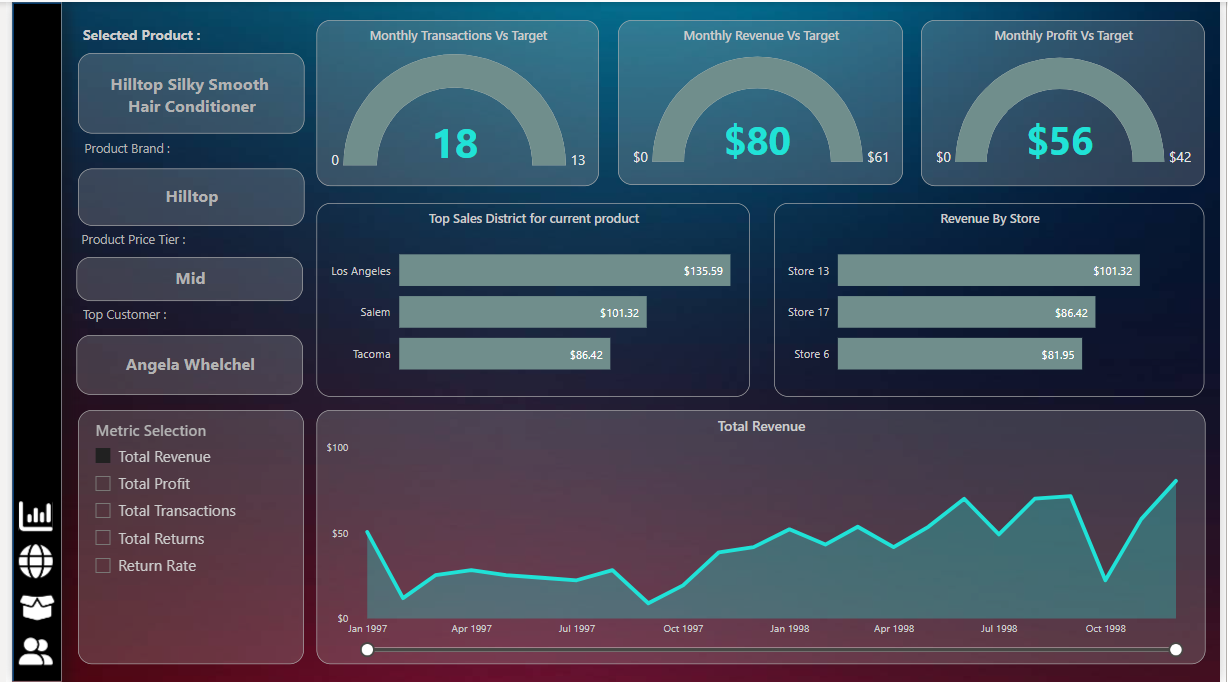

What the dashboard file says about the page in this screenshot:
{"tool":"powerbi","page":{"name":" Product Detail","canvas":[1280,720],"ordinal":2},"visuals":[{"type":"shape","box":[0,0,52.5,720],"z":0},{"type":"actionButton","box":[3.6,523.5,45,43.8],"z":0,"group":"g1"},{"type":"gauge","title":"Monthly Revenue Vs Target","fields":{"Y":["Measures Table.Total Revenue"],"MaxValue":["Measures Table.Revenue Target"]},"box":[642.1,19.1,302,174.8],"z":1000},{"type":"actionButton","box":[3.6,571.2,45,43.8],"z":1000,"group":"g1"},{"type":"gauge","title":"Monthly Profit Vs Target","fields":{"Y":["Measures Table.Total Profit"],"MaxValue":["Measures Table.Profit Target"]},"box":[963.3,18.6,300.6,176.1],"z":2000},{"type":"actionButton","box":[4.8,620.7,45,43.8],"z":2000,"group":"g1"},{"type":"gauge","title":"Monthly Transactions Vs Target","fields":{"Y":["Measures Table.Total Transactions"],"MaxValue":["Measures Table.Transaction Target"]},"box":[322.1,18.6,299.2,176.1],"z":3000},{"type":"actionButton","box":[3.6,666.5,45,43.8],"z":3000,"group":"g1"},{"type":"card","fields":{"Values":["Products.product_name"]},"box":[69.7,54.2,240.2,85.2],"z":4000},{"type":"textbox","box":[69.9,19.1,211.4,35],"z":5000},{"type":"areaChart","fields":{"Y":["Measures Table.Return Rate"],"Category":["Calendar.End of Month.Variation.Date Hierarchy.Year","Calendar.End of Month.Variation.Date Hierarchy.Quarter","Calendar.End of Month.Variation.Date Hierarchy.Month","Calendar.End of Month.Variation.Date Hierarchy.Day"]},"box":[322.1,432.3,941.9,269.1],"z":6000},{"type":"slicer","fields":{"Values":["Metric Selection.Metric Selection"]},"box":[70.1,432.3,239,269.1],"z":7000},{"type":"card","title":"Product Brand","fields":{"Values":["Products.product_brand"]},"box":[69.7,176.7,240.2,60.4],"z":8000},{"type":"textbox","box":[71.3,139.5,212.3,37.2],"z":9000},{"type":"barChart","title":"Top Sales District for current product","fields":{"Category":["Regions.sales_district"],"Y":["Measures Table.Total Revenue"]},"box":[322.6,213,459.3,205],"z":10000},{"type":"barChart","title":"Revenue By Store","fields":{"Y":["Measures Table.Total Revenue"],"Category":["Stores.store_name"]},"box":[807.4,213,456.2,205],"z":11000},{"type":"textbox","box":[68.2,237.1,212.3,32.5],"z":12000},{"type":"card","title":"Product Brand","fields":{"Values":["Products.Price Tier"]},"box":[68.2,269.6,240.2,46.5],"z":13000},{"type":"card","title":"Product Brand","fields":{"Values":["Customers.full_name"]},"box":[68.2,353.3,240.2,63.5],"z":14000},{"type":"textbox","box":[69.7,316.1,212.3,37.2],"z":15000},{"type":"group","id":"g1","title":"Nav Icons","box":[3.6,523.5,46.2,186.8],"z":16000}]}

Visuals, with their boxes in screenshot pixels (x1, y1, x2, y2), scaled from the page's 1280x720 canvas onto the 1228x682 screenshot:
shape: [left=0, top=0, right=50, bottom=681]
actionButton: [left=3, top=496, right=47, bottom=537]
"Monthly Revenue Vs Target" gauge: [left=616, top=18, right=906, bottom=184]
actionButton: [left=3, top=541, right=47, bottom=583]
"Monthly Profit Vs Target" gauge: [left=924, top=18, right=1213, bottom=184]
actionButton: [left=5, top=588, right=48, bottom=629]
"Monthly Transactions Vs Target" gauge: [left=309, top=18, right=596, bottom=184]
actionButton: [left=3, top=631, right=47, bottom=673]
card - Products.product_name: [left=67, top=51, right=297, bottom=132]
textbox: [left=67, top=18, right=270, bottom=51]
areaChart - Measures Table.Return Rate x Calendar.End of Month.Variation.Date Hierarchy.Year: [left=309, top=409, right=1213, bottom=664]
slicer - Metric Selection.Metric Selection: [left=67, top=409, right=297, bottom=664]
"Product Brand" card: [left=67, top=167, right=297, bottom=225]
textbox: [left=68, top=132, right=272, bottom=167]
"Top Sales District for current product" barChart: [left=309, top=202, right=750, bottom=396]
"Revenue By Store" barChart: [left=775, top=202, right=1212, bottom=396]
textbox: [left=65, top=225, right=269, bottom=255]
"Product Brand" card: [left=65, top=255, right=296, bottom=299]
"Product Brand" card: [left=65, top=335, right=296, bottom=395]
textbox: [left=67, top=299, right=271, bottom=335]
"Nav Icons" group: [left=3, top=496, right=48, bottom=673]
